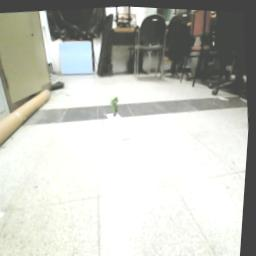herb: (110, 94, 124, 117)
